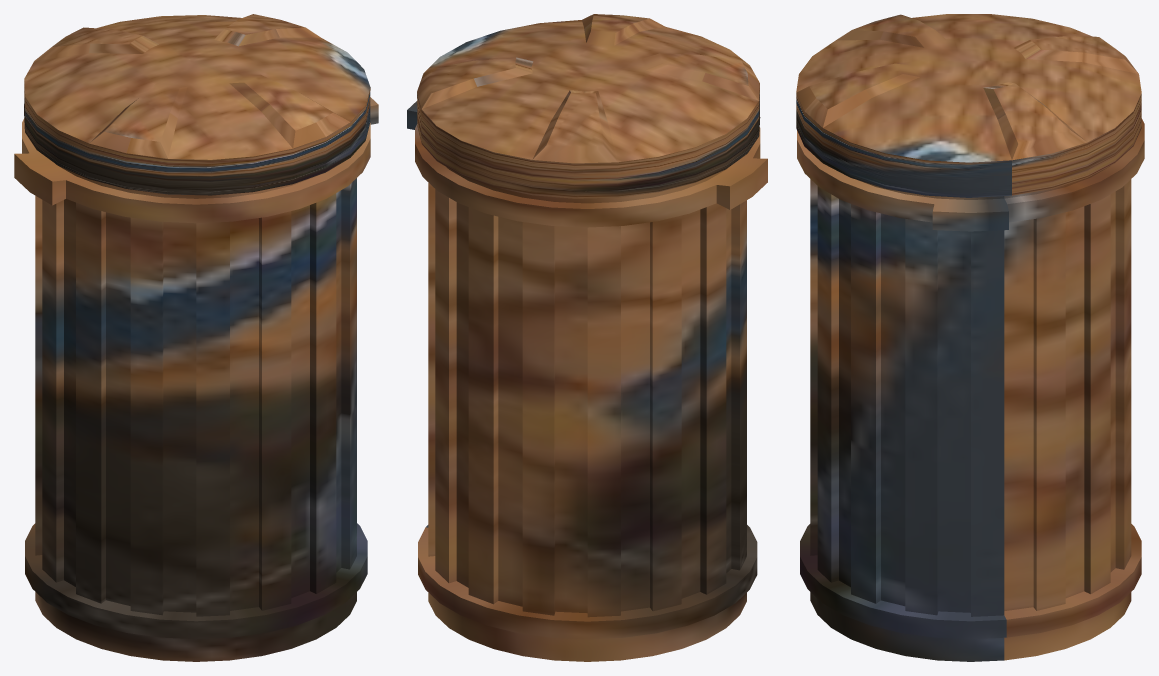
File: Trash Can.fbx
3 views of the same model, side by side, from view 1: azimuth 30°, elevation 25°; view 2: azimuth 150°, elevation 25°; view 3: azimuth 270°, elevation 25° (orthographic).
Parts seen in each view (by area): view 1: pCylinder1, pCylinder2; view 2: pCylinder1, pCylinder2; view 3: pCylinder1, pCylinder2.
Boxes of the visible parts, x1=… form: pCylinder1: x1=14, y1=97, x2=378, y2=661; pCylinder2: x1=24, y1=14, x2=370, y2=195; pCylinder1: x1=407, y1=101, x2=767, y2=661; pCylinder2: x1=417, y1=14, x2=760, y2=198; pCylinder1: x1=797, y1=118, x2=1144, y2=661; pCylinder2: x1=796, y1=14, x2=1141, y2=197.
Bounding box in the file's own units: 7.13 × 10.99 × 6.48.
